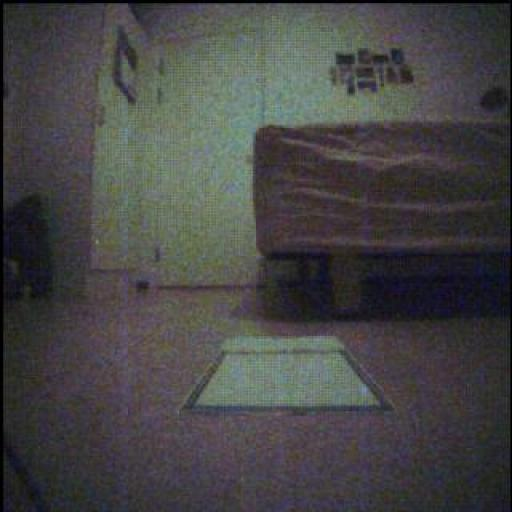pad: (184, 337, 392, 414)
